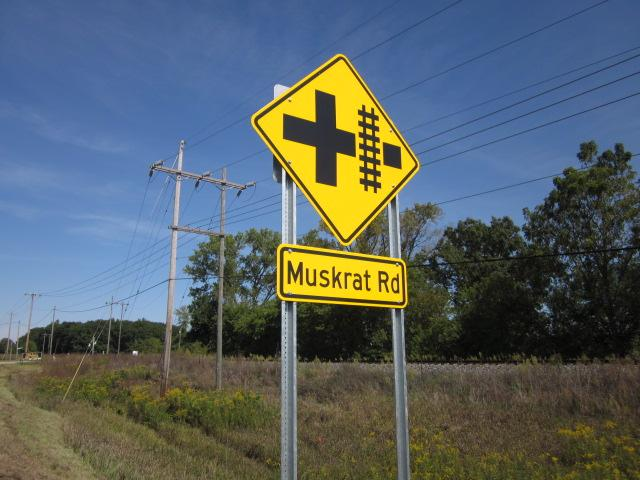warning: (248, 53, 423, 250), (274, 239, 418, 315)
